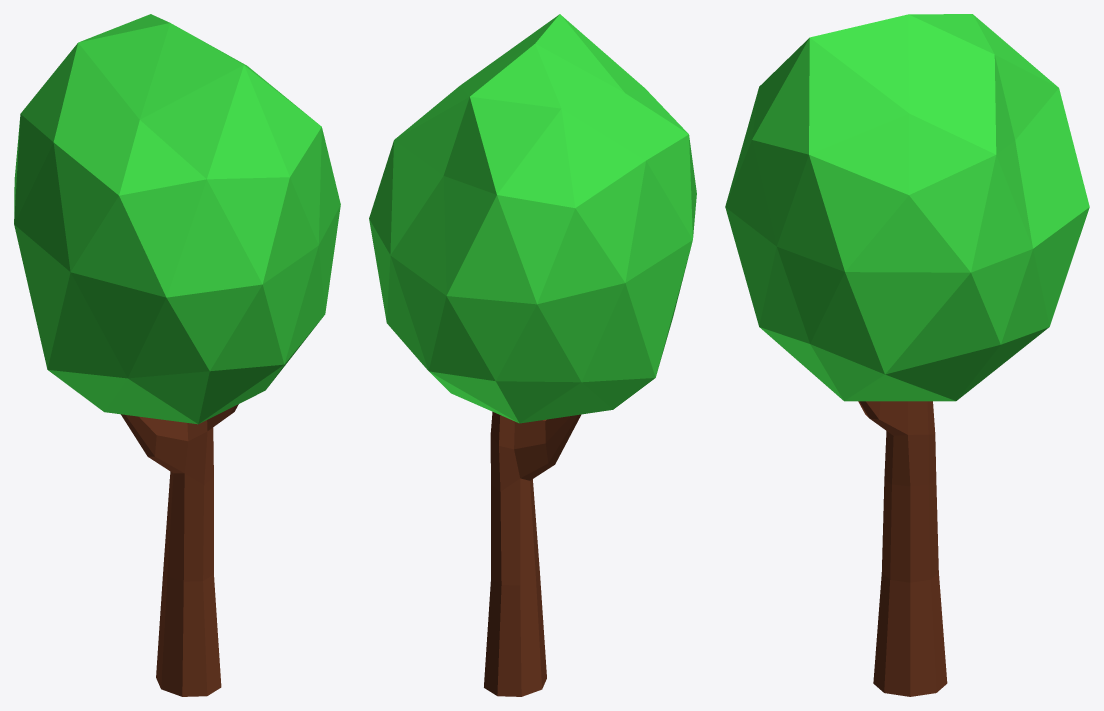
Rendered from Tree2, Tall_Skinny.fbx.
3 renders of one model, left to right at view 1: azimuth 30°, elevation 25°; view 2: azimuth 150°, elevation 25°; view 3: azimuth 270°, elevation 25°, orthographic. The views are drawn at different scales.
Parts seen in each view (by area): view 1: Tree2; view 2: Tree2; view 3: Tree2.
Boxes of the visible parts, x1=… form: Tree2: x1=14, y1=14, x2=340, y2=696; Tree2: x1=369, y1=14, x2=696, y2=696; Tree2: x1=725, y1=14, x2=1089, y2=696.
Bounding box in the file's own units: 185 × 433 × 217.
